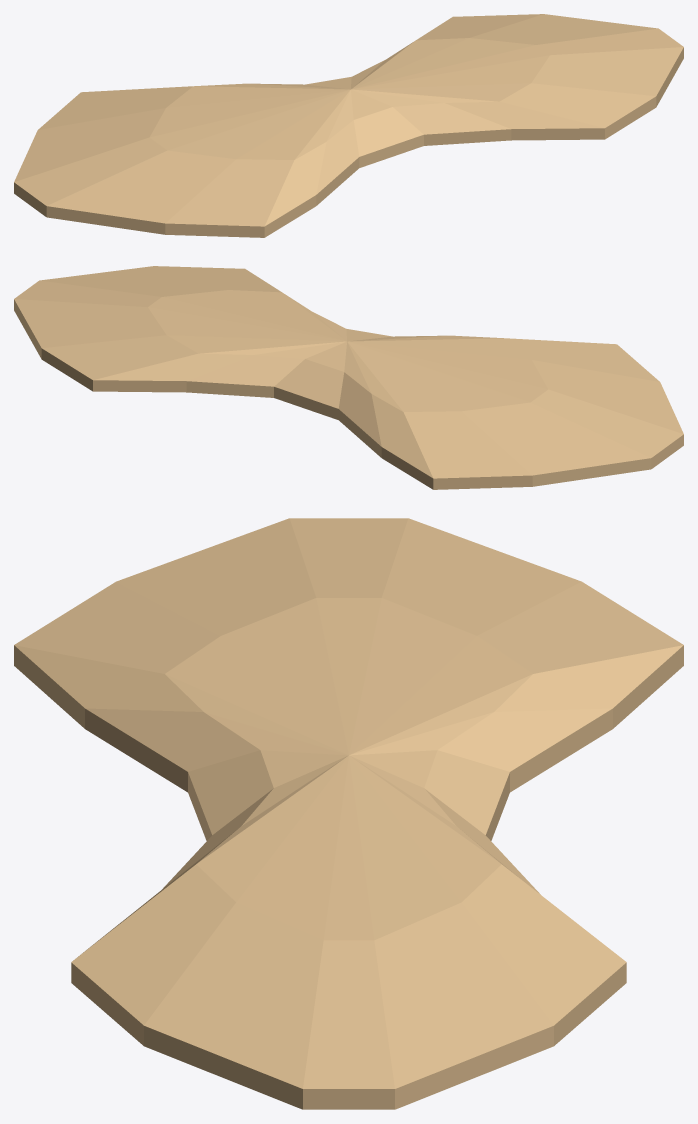
File: prop-fiddle-back-blank.fbx
The picture shows the model from 3 angles, top to bottom: view 1: azimuth 30°, elevation 25°; view 2: azimuth 150°, elevation 25°; view 3: azimuth 270°, elevation 25°; orthographic projection. The views are drawn at different scales.
Visible parts, largest first — view 1: prop-fiddle-back-blank; view 2: prop-fiddle-back-blank; view 3: prop-fiddle-back-blank.
Part boxes in pixels (bbox=[...]): prop-fiddle-back-blank: bbox=[14, 14, 683, 237]; prop-fiddle-back-blank: bbox=[14, 266, 683, 489]; prop-fiddle-back-blank: bbox=[14, 518, 683, 1109].
Size of the model in its own units: 35.5 by 2 by 17.61.
